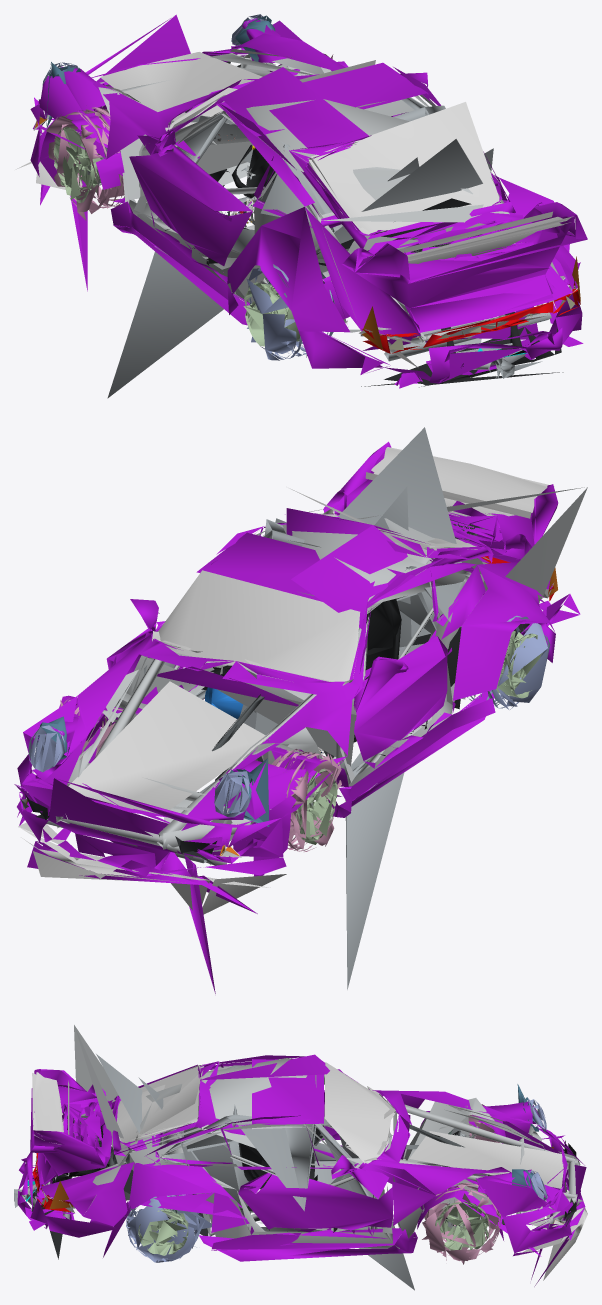
Rendered from rwb-far.glb.
3 views of the same model, one above another, from view 1: azimuth 30°, elevation 25°; view 2: azimuth 150°, elevation 25°; view 3: azimuth 270°, elevation 25° (orthographic). The views are drawn at different scales.
Visible parts, largest first — view 1: far_rwb; view 2: far_rwb; view 3: far_rwb.
Boxes of the visible parts, left/top/right/bottom form: far_rwb: left=15, top=14, right=587, bottom=398; far_rwb: left=14, top=427, right=587, bottom=993; far_rwb: left=14, top=1025, right=587, bottom=1290.
Bounding box in the file's own units: 2 × 2.38 × 4.32.
